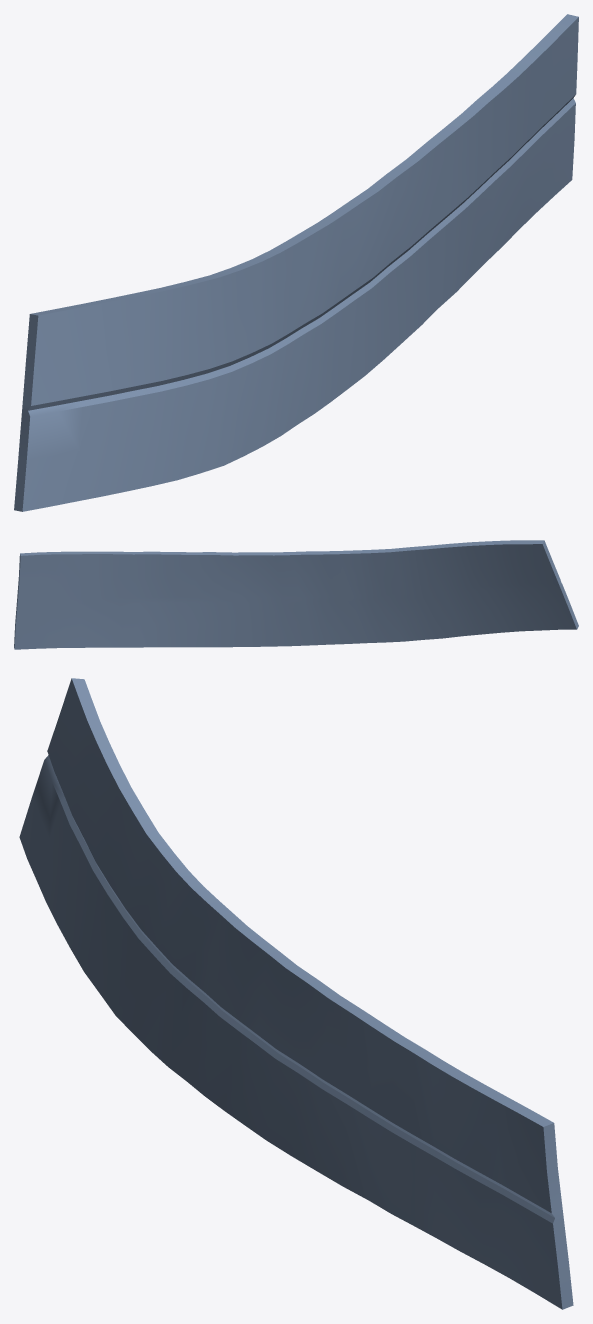
Rendered from SM_CarlosSA_Jacket_ChestPockets_Straight.fbx.
The picture shows the model from 3 angles, top to bottom: view 1: azimuth 30°, elevation 25°; view 2: azimuth 150°, elevation 25°; view 3: azimuth 270°, elevation 25°; orthographic projection. The views are drawn at different scales.
Visible parts, largest first — view 1: SM_CarlosSA_Jacket_ChestPockets_Straight; view 2: SM_CarlosSA_Jacket_ChestPockets_Straight; view 3: SM_CarlosSA_Jacket_ChestPockets_Straight.
Boxes of the visible parts, <box> form: SM_CarlosSA_Jacket_ChestPockets_Straight: <box>14,14,578,511</box>; SM_CarlosSA_Jacket_ChestPockets_Straight: <box>14,540,578,649</box>; SM_CarlosSA_Jacket_ChestPockets_Straight: <box>19,678,573,1309</box>.
Bounding box in the file's own units: 0.0878 × 0.0238 × 0.0489.
